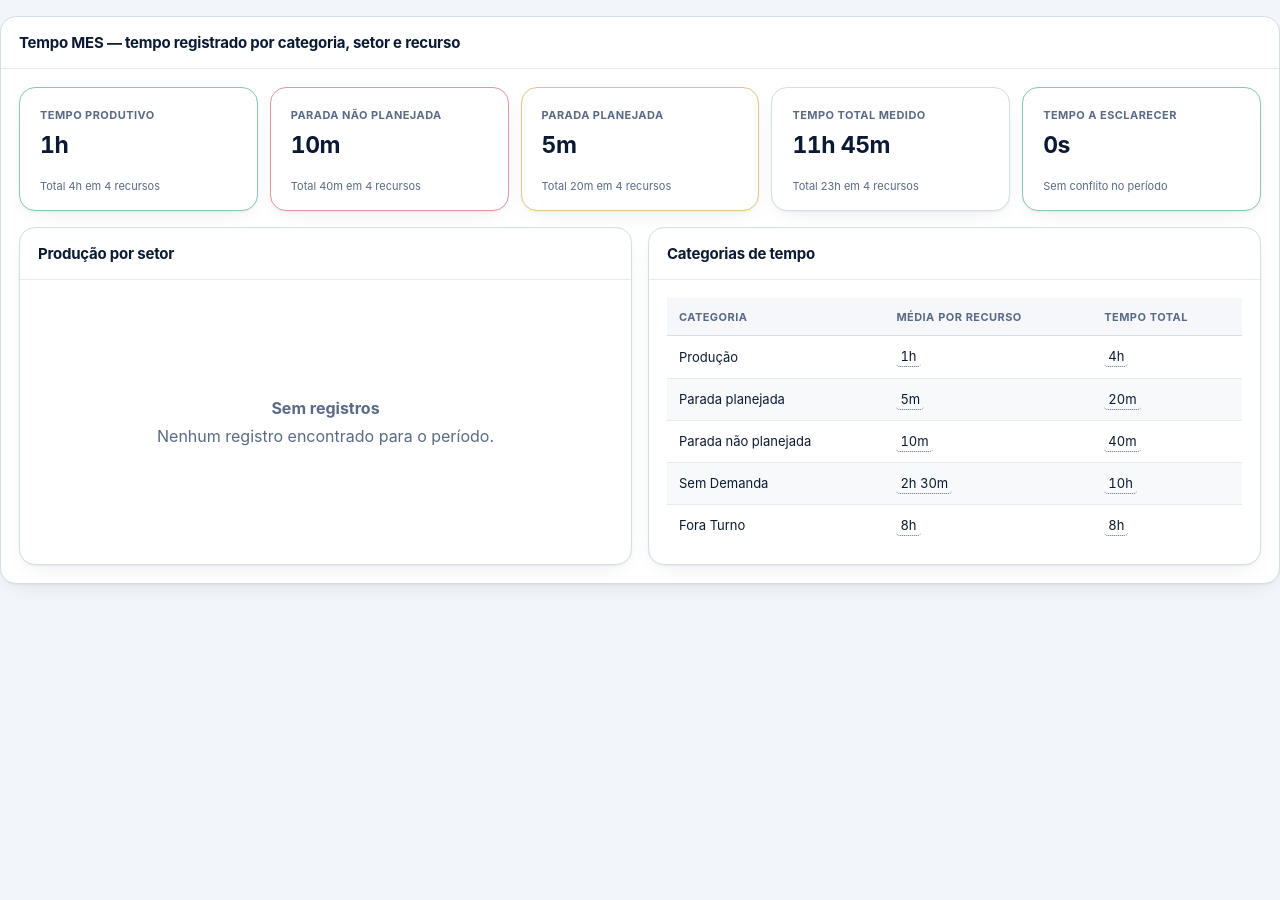
Operações > Tempo: categorias clicáveis › categorias com id de métrica ganham clique e abrem a explicação
Click the button named "Explicar Sem demanda" at coordinates (924, 483), box [896,472,952,494]
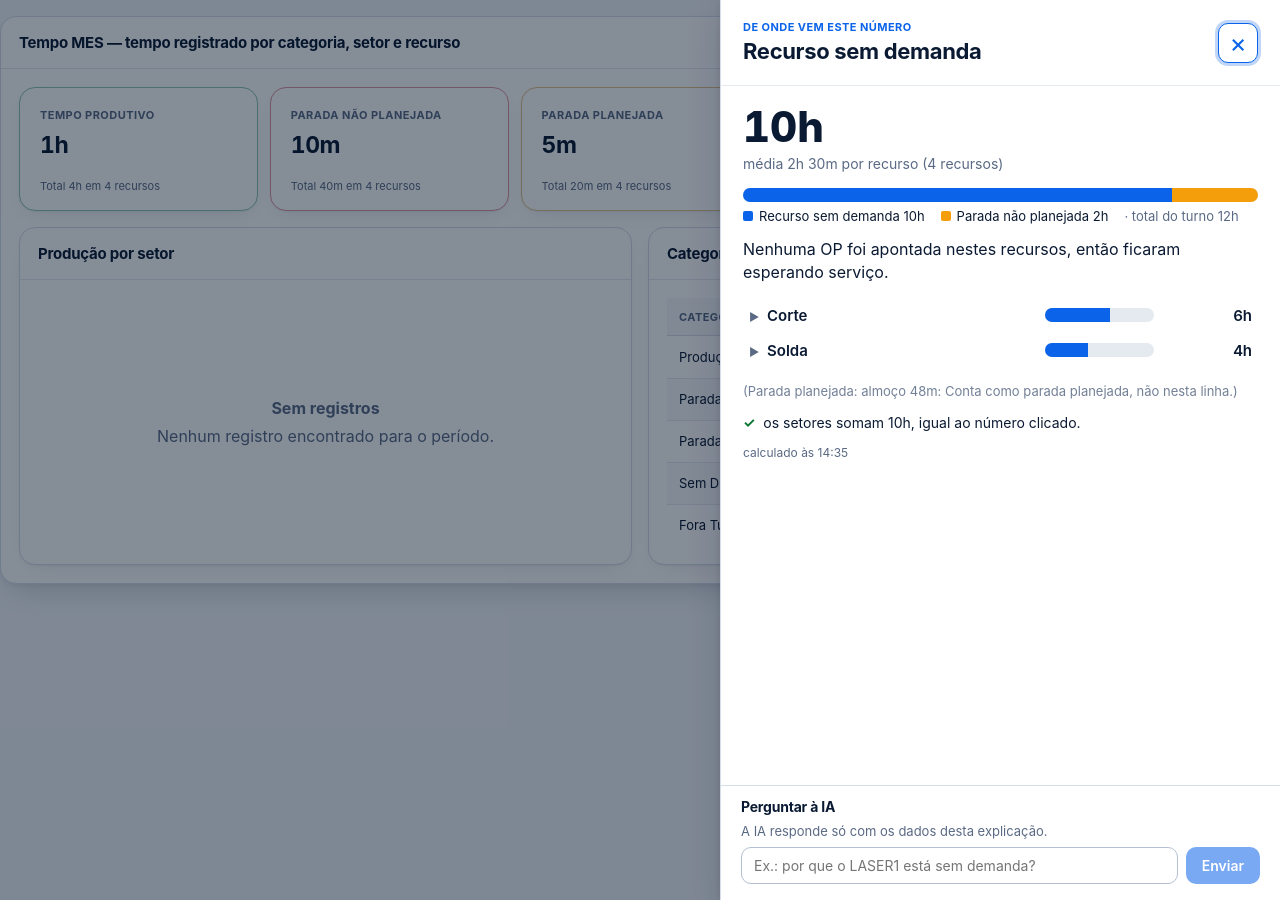
Now the dialog "Recurso sem demanda" is shown, box [720,0,1279,899]
